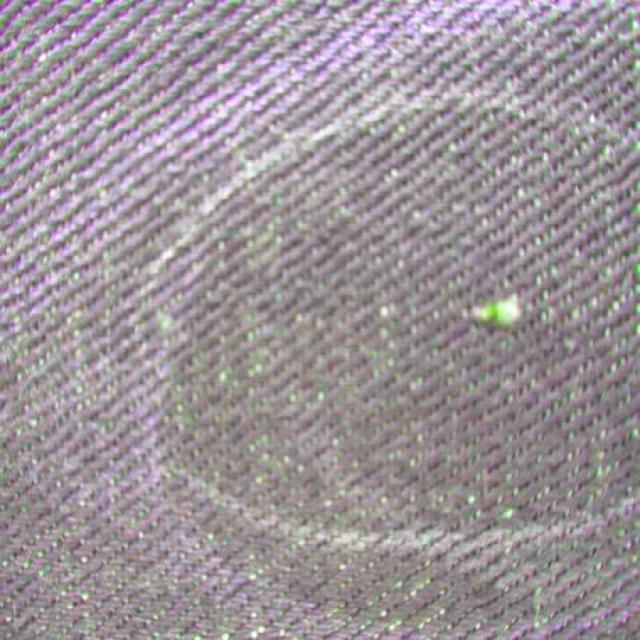Thread_other: (324, 244, 610, 408)
